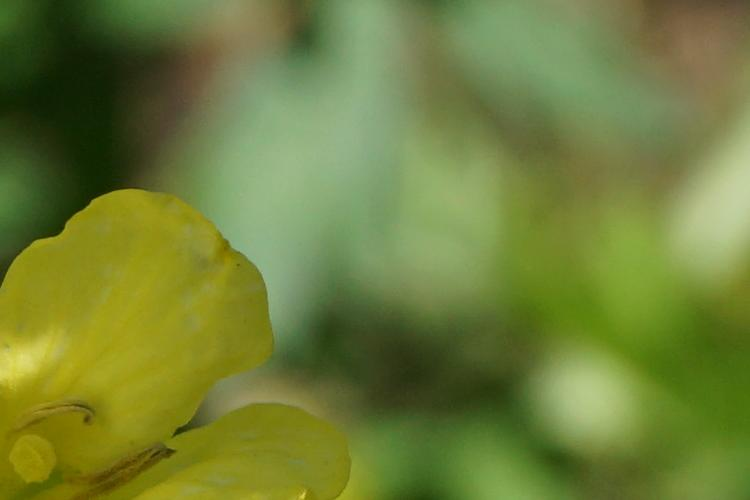yellow: (27, 191, 351, 500)
